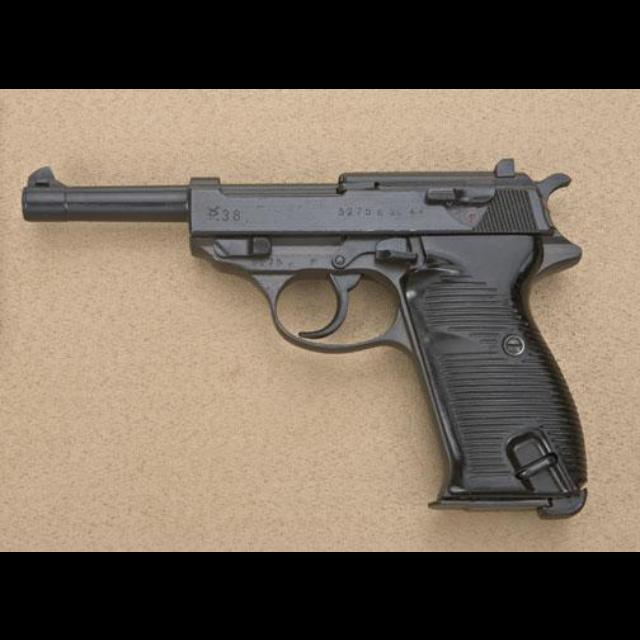handgun: (18, 152, 594, 526)
